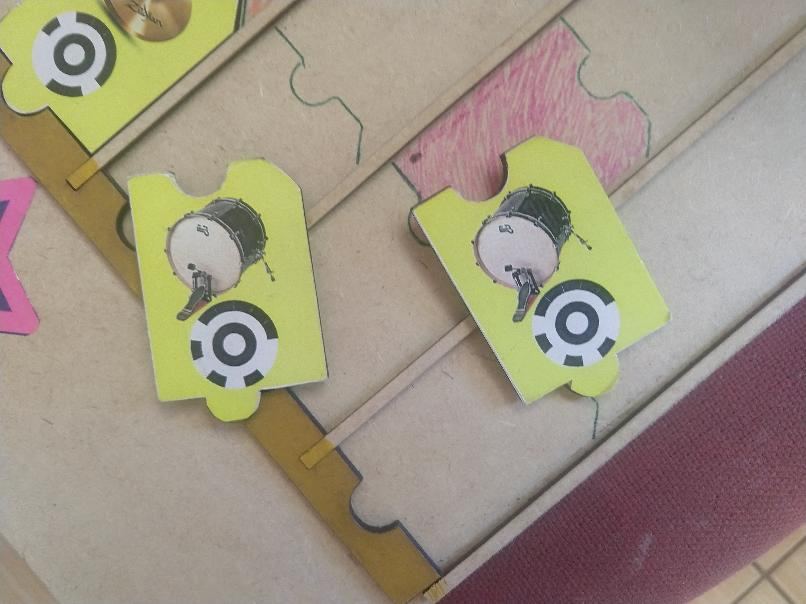bumbo: (402, 124, 670, 418), (125, 152, 340, 433)
